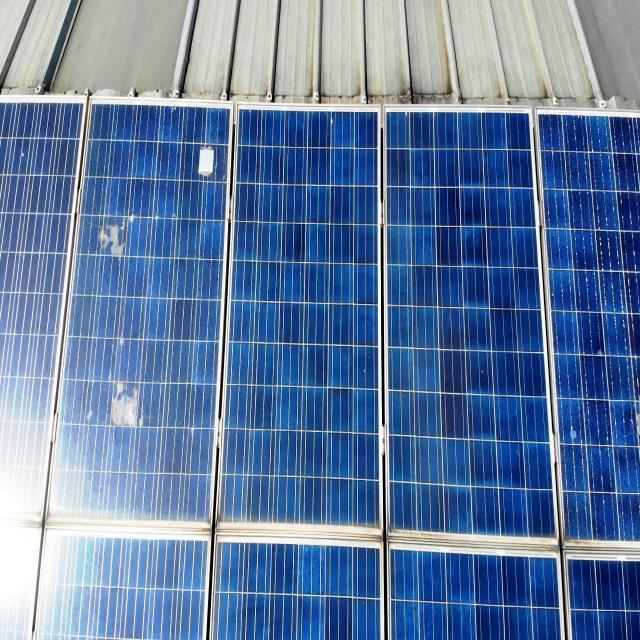faulty: (52, 97, 231, 530), (536, 116, 638, 554)
no faulty: (385, 112, 563, 542), (214, 105, 386, 535)
